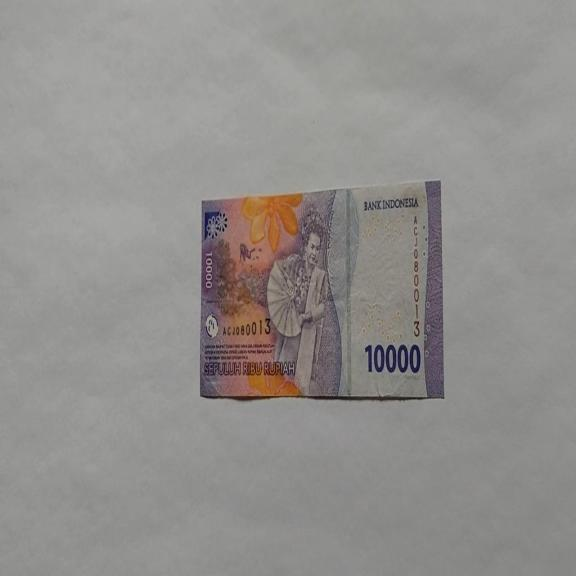Kertas: (199, 179, 444, 401), (364, 341, 421, 375)
